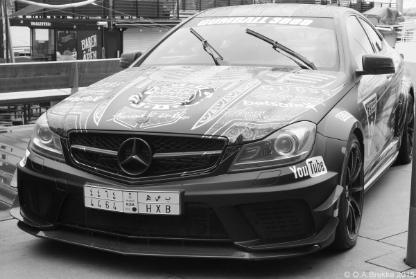license plate: (82, 184, 181, 217)
